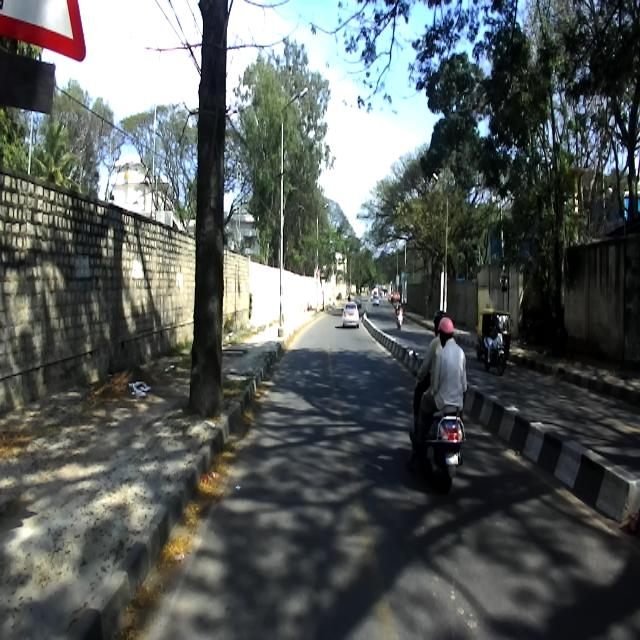electric pole ahead at: (272, 84, 294, 349)
motorcycle ahead at: (408, 406, 470, 498)
tree ahead at: (190, 0, 232, 428)
